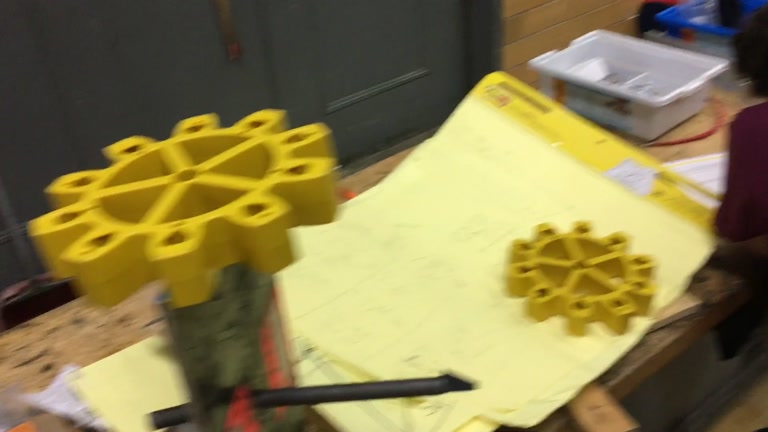gear: (25, 106, 339, 312), (504, 219, 658, 337)
